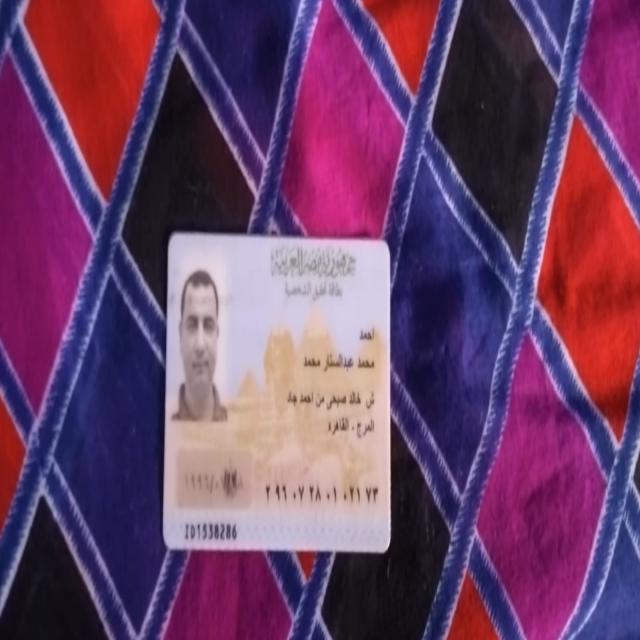id_card: (153, 221, 396, 570)
